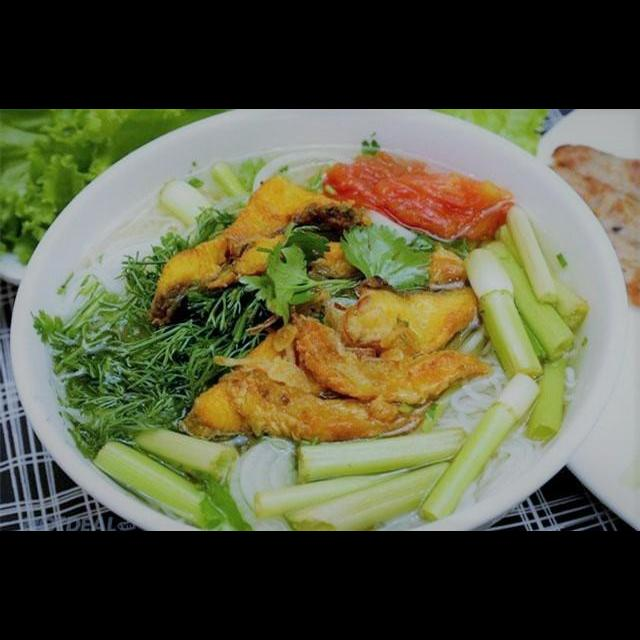bun: (5, 383, 268, 500)
bun ca: (35, 136, 584, 512)
ca: (294, 198, 550, 358), (180, 292, 338, 438), (115, 252, 261, 399), (229, 308, 396, 432)
